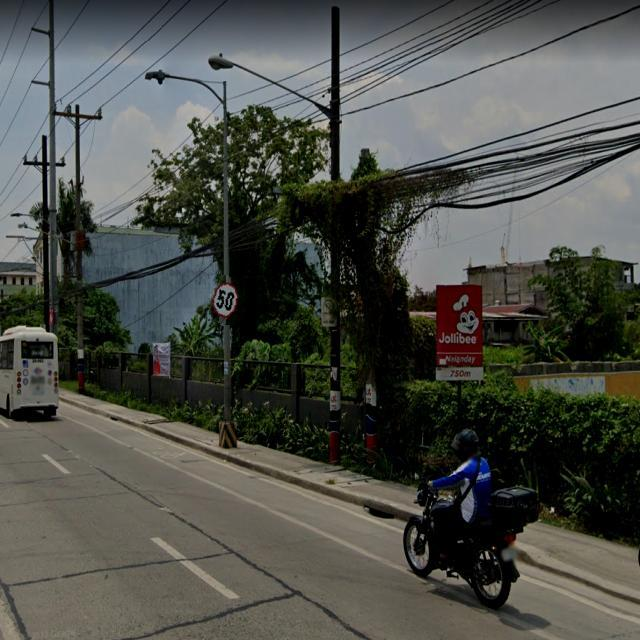50 kph: (210, 275, 245, 325)
